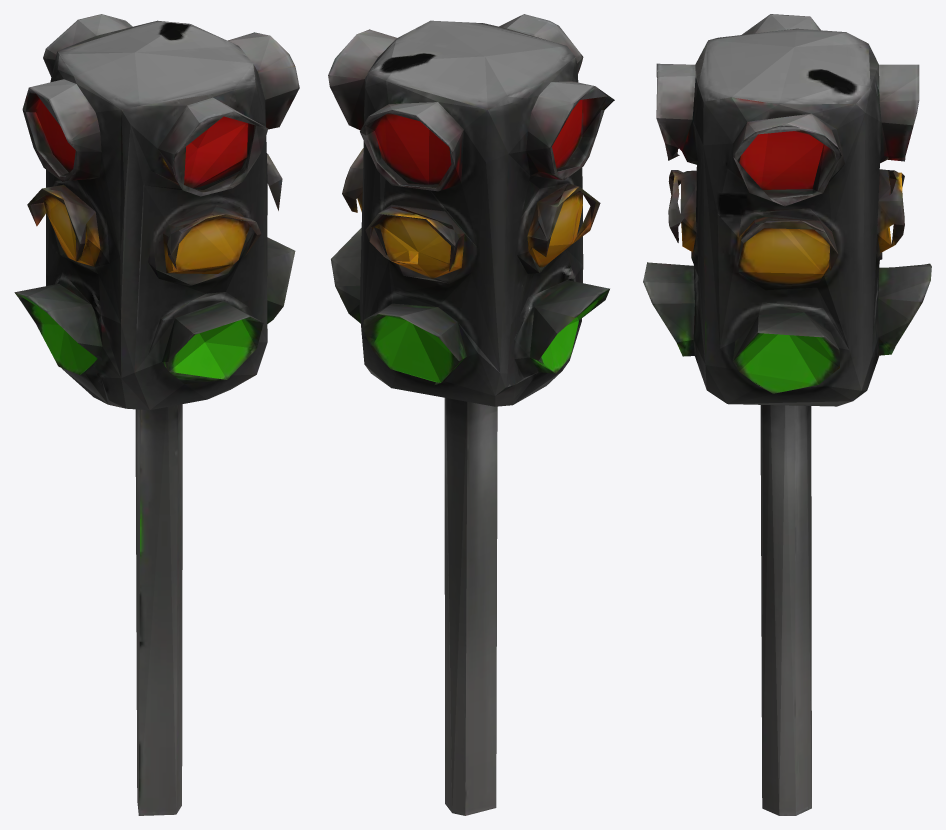
The model's file is trafficlight.glb.
The picture shows the model from 3 angles, left to right: view 1: azimuth 30°, elevation 25°; view 2: azimuth 150°, elevation 25°; view 3: azimuth 270°, elevation 25°; orthographic projection.
Visible parts, largest first — view 1: geometry_0; view 2: geometry_0; view 3: geometry_0.
Part boxes in pixels (x1,y1,x2,y2): geometry_0: (14,14,299,815); geometry_0: (328,14,614,815); geometry_0: (643,14,931,815).
Bounding box in the file's own units: 0.3495 × 0.9986 × 0.3487.
Materials: 1 (1 with a texture image).
